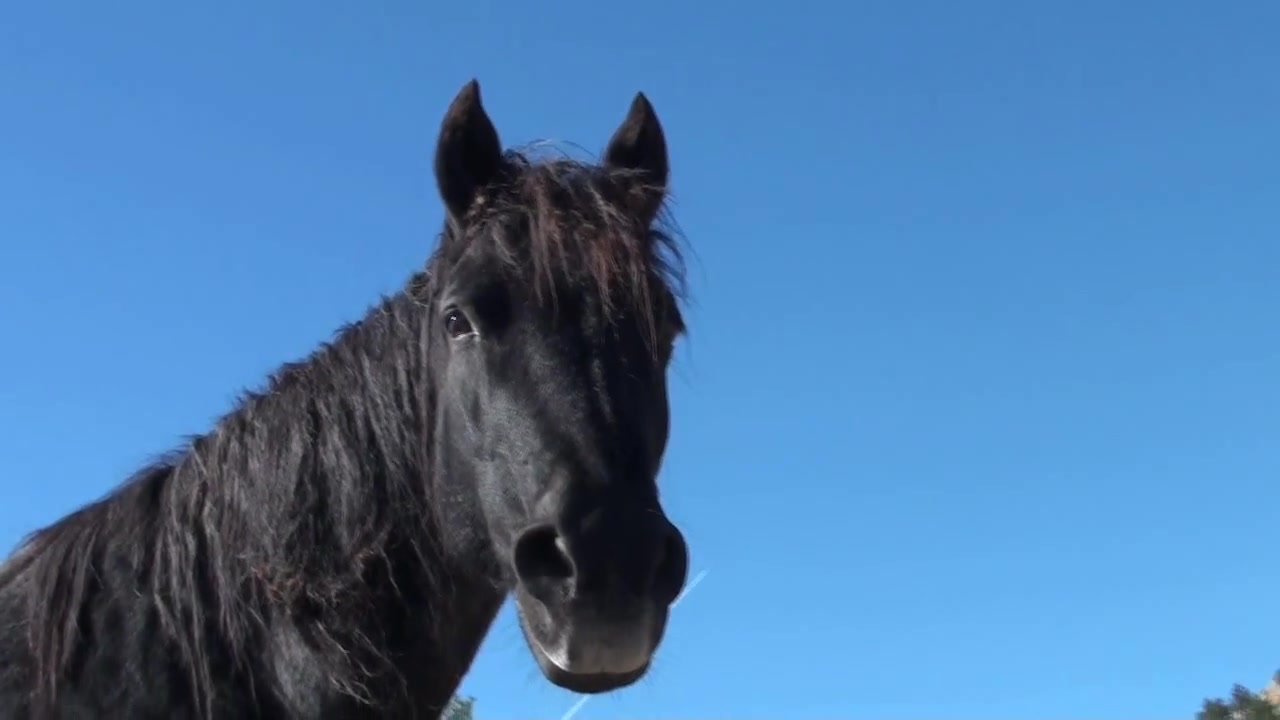horse: (2, 75, 697, 720)
